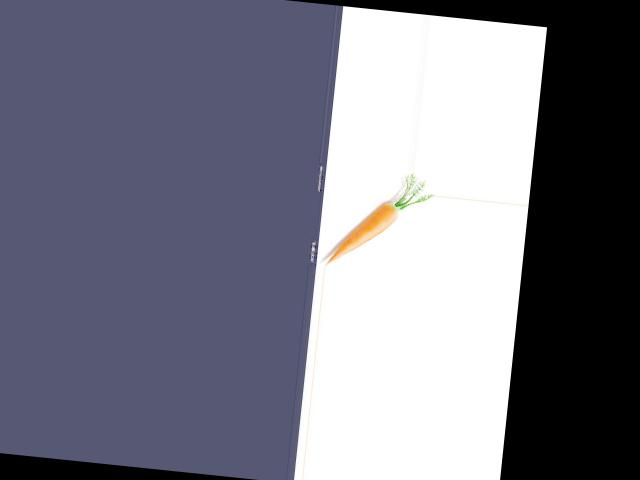carrot: (323, 187, 419, 273)
